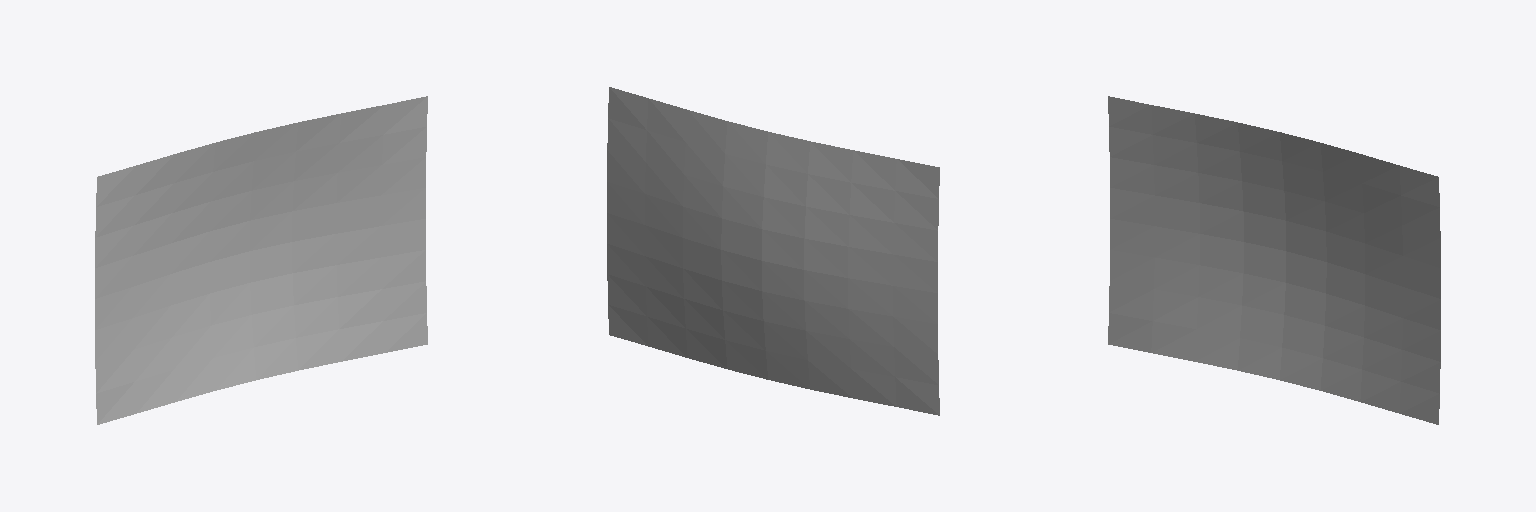
Rendered from Ecran_Pc_For_Shader.obj.
3 views of the same model, side by side, from view 1: azimuth 30°, elevation 25°; view 2: azimuth 150°, elevation 25°; view 3: azimuth 330°, elevation 25° (orthographic).
Parts seen in each view (by area): view 1: Cylinder.001; view 2: Cylinder.001; view 3: Cylinder.001.
Part boxes in pixels (x1,y1,x2,y2): Cylinder.001: (95,96,427,424); Cylinder.001: (607,87,939,415); Cylinder.001: (1108,96,1440,424).
Bounding box in the file's own units: 0.2984 × 0.2139 × 0.0201.